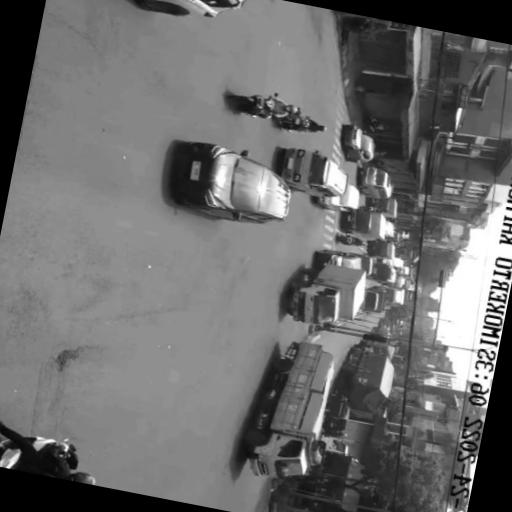car: (175, 140, 289, 223), (135, 0, 244, 16), (342, 123, 374, 162), (315, 184, 359, 211), (357, 166, 392, 198), (322, 391, 349, 431), (314, 249, 360, 268), (350, 253, 373, 274), (384, 220, 394, 236)
motorcycle: (26, 436, 77, 468), (228, 93, 277, 116), (275, 114, 310, 131), (363, 115, 379, 131), (336, 234, 353, 244), (360, 204, 375, 211)
truck: (243, 341, 333, 476), (286, 263, 365, 323), (334, 346, 393, 412), (343, 208, 385, 239), (358, 339, 393, 358), (360, 286, 385, 312), (374, 285, 404, 304), (369, 197, 397, 217), (367, 262, 396, 281), (367, 239, 394, 257), (380, 275, 404, 287)
